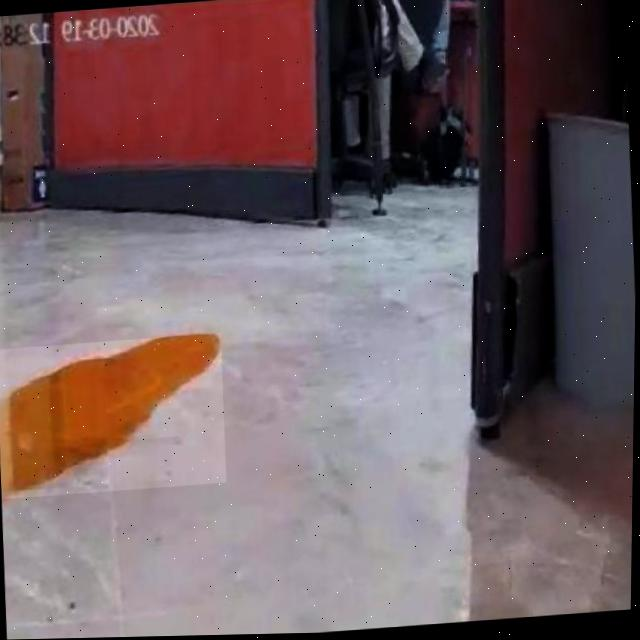spillage: (1, 335, 222, 498)
